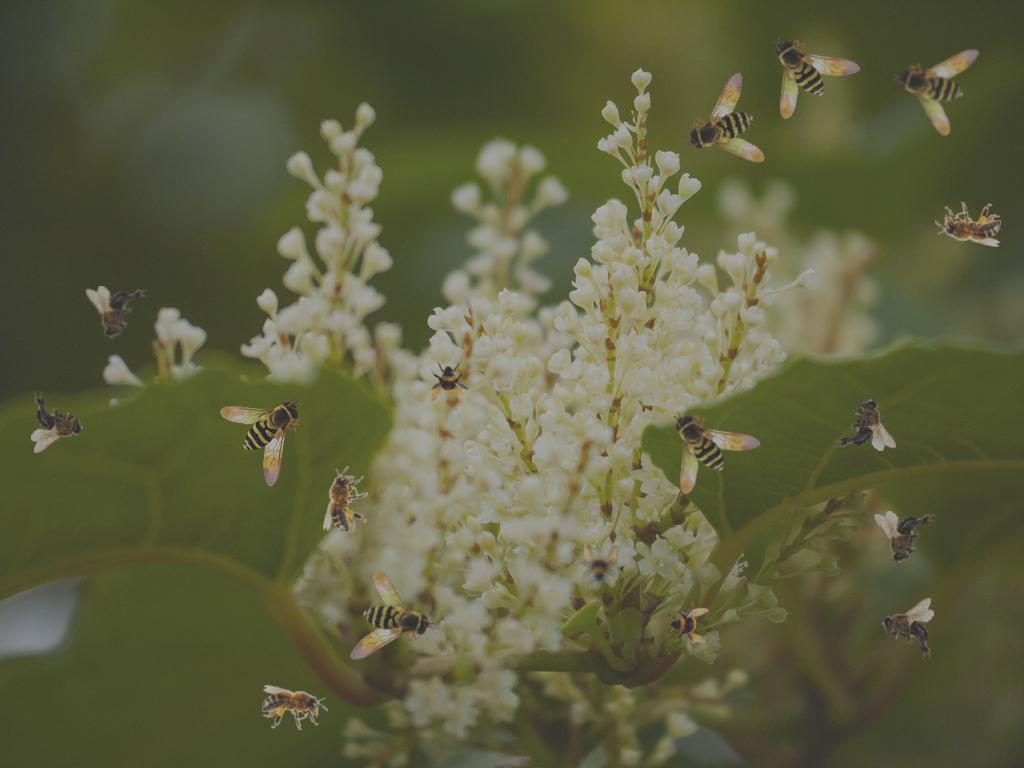Bee: (317, 563, 439, 683), (889, 24, 1009, 144), (682, 62, 788, 172), (673, 412, 761, 494), (220, 399, 302, 487), (773, 37, 861, 119), (86, 286, 148, 339), (834, 398, 896, 451), (881, 598, 934, 660), (31, 391, 84, 453), (874, 511, 936, 564), (935, 202, 1001, 247), (323, 466, 368, 532), (262, 685, 328, 730), (576, 544, 620, 588), (665, 601, 709, 645), (428, 361, 472, 405)
